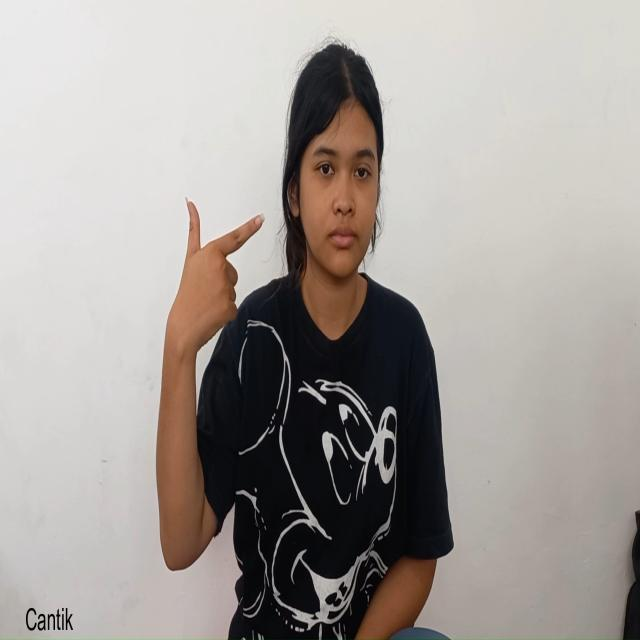Cantik -BISINDO-: (162, 41, 385, 368)
